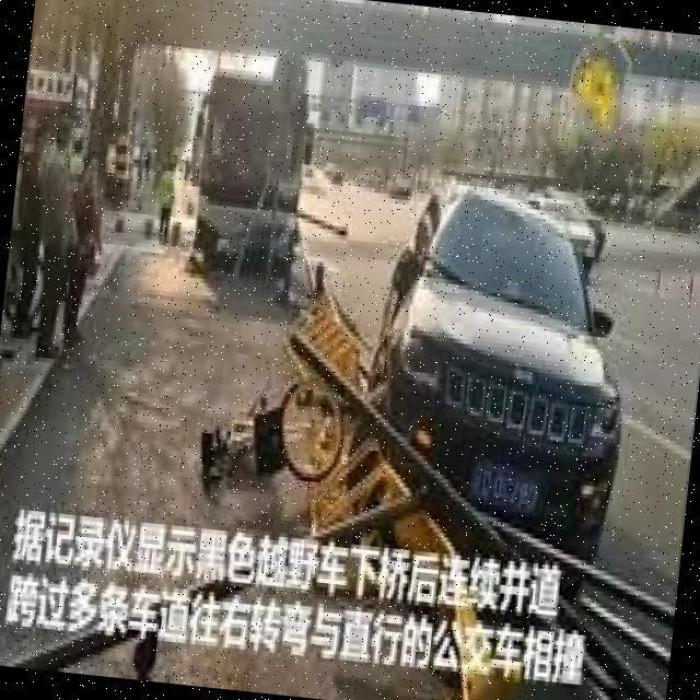Accident: (315, 127, 667, 601)
